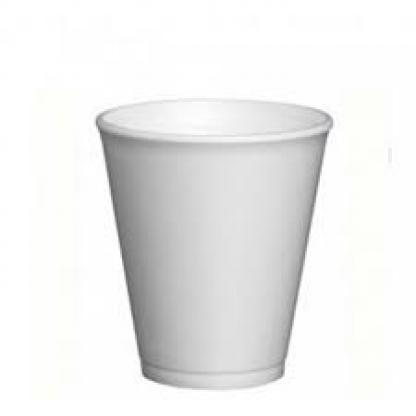paper: (96, 102, 333, 390)
